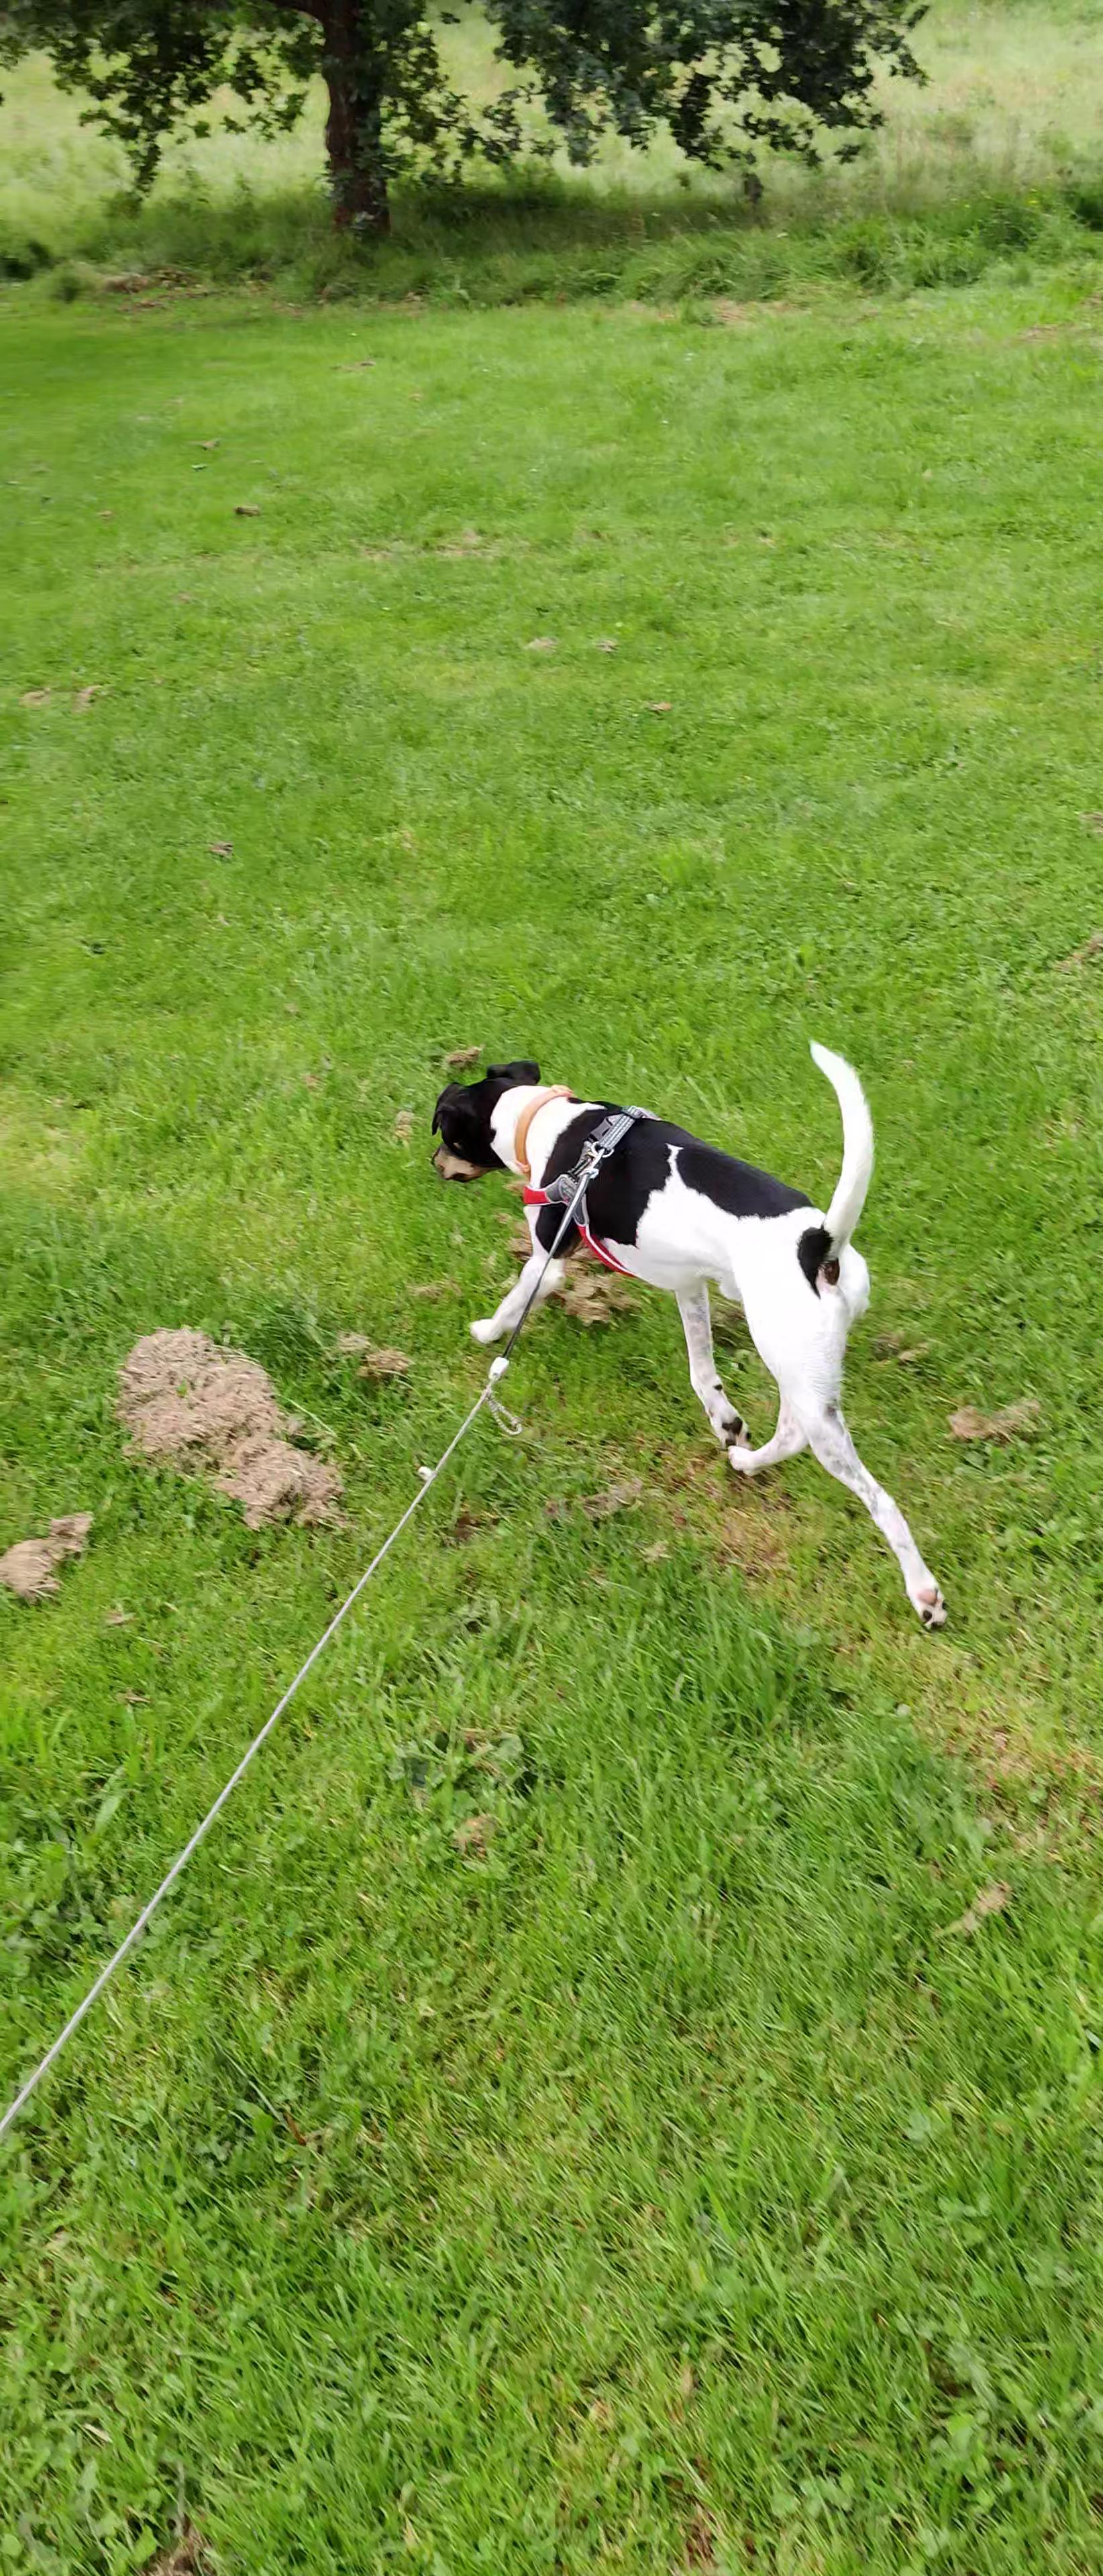Dog: (422, 1035, 960, 1633)
